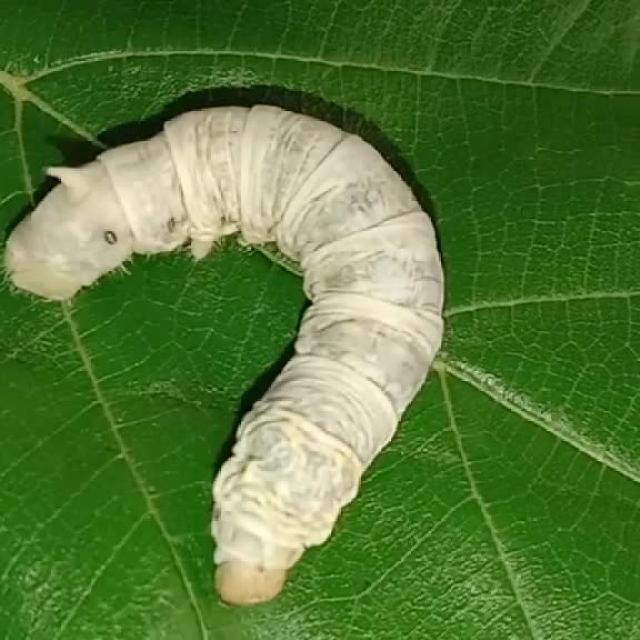Grasserie: (10, 83, 459, 606)
